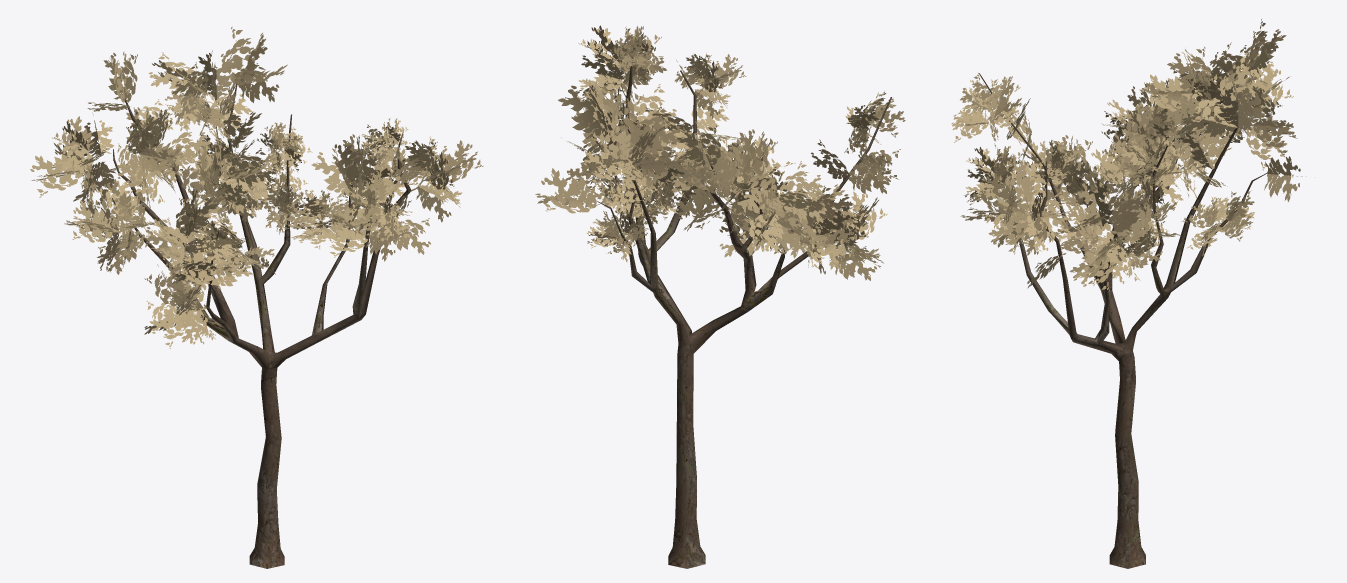
The model's file is L_tree_2.fbx.
3 views of the same model, side by side, from view 1: azimuth 30°, elevation 25°; view 2: azimuth 150°, elevation 25°; view 3: azimuth 270°, elevation 25° (orthographic). The views are drawn at different scales.
Visible parts, largest first — view 1: Object125, Line012; view 2: Object125, Line012; view 3: Object125, Line012.
Boxes of the visible parts, x1,y1,x2,y2 form: Object125: [30, 26, 483, 348]; Line012: [112, 84, 411, 568]; Object125: [535, 25, 905, 280]; Line012: [591, 56, 891, 568]; Object125: [951, 19, 1306, 291]; Line012: [979, 67, 1266, 568].
Size of the model in its own units: 334 by 445 by 307.
